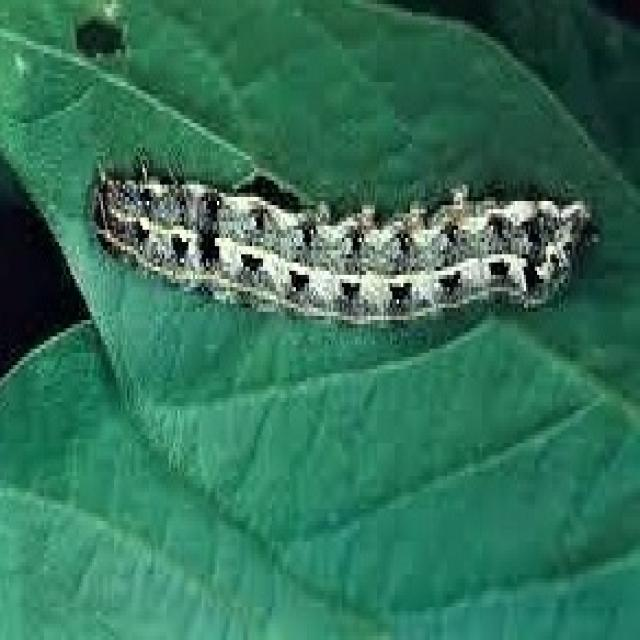armyworm: (88, 148, 598, 324)
